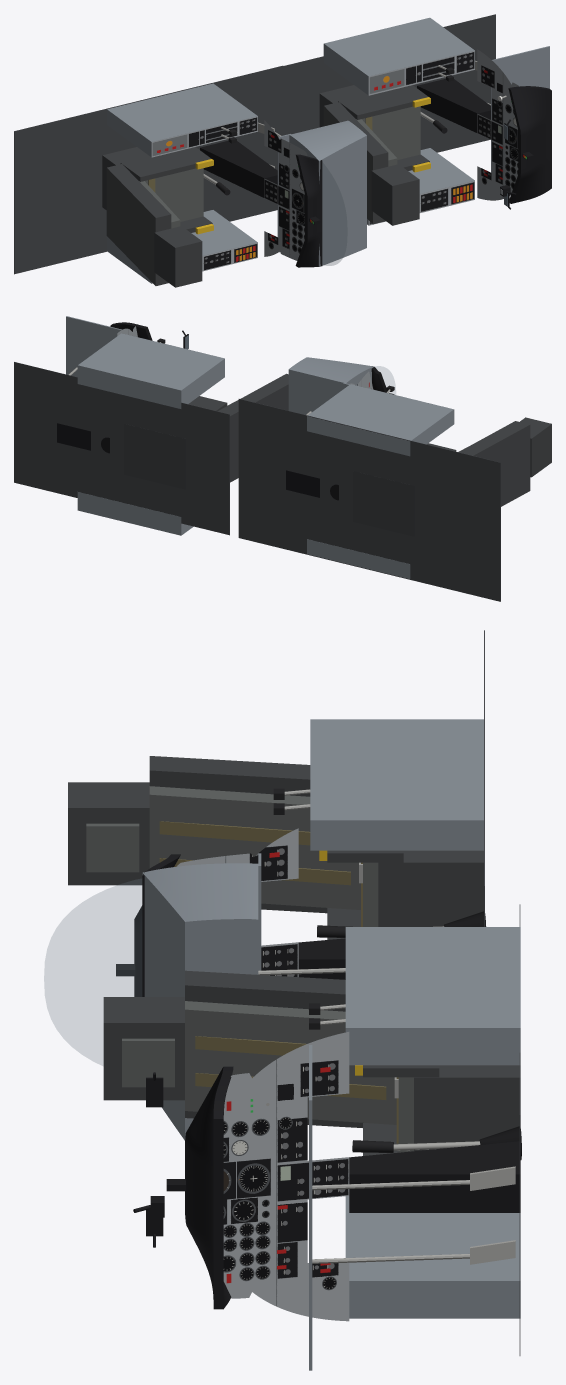
Rendered from t38a-cockpit.glb.
3 views of the same model, one above another, from view 1: azimuth 30°, elevation 25°; view 2: azimuth 150°, elevation 25°; view 3: azimuth 270°, elevation 25° (orthographic). The views are drawn at different scales.
Parts seen in each view (by area): view 1: cockpitRearFloor, cockpitRearSeatFrame, cockpitFrontFloor, cockpitRearShroud, cockpitFrontSeatFrame, cockpitFrontConsoleLeft, cockpitRearConsoleLeft, cockpitFrontGlareShield, cockpitFrontPanel, cockpitRearPanel, cockpitRearPedestal, cockpitFrontSeatCushions (+11 smaller); view 2: cockpitRearFloor, cockpitFrontFloor, cockpitRearSeatFrame, cockpitFrontConsoleLeft, cockpitRearConsoleLeft, cockpitFrontSeatFrame, cockpitRearShroud, cockpitFrontConsoleRight, cockpitFrontFootwellCeiling, cockpitRearConsoleRight, cockpitRearPedestal, cockpitFrontPedestal; view 3: cockpitFrontPanel, cockpitFrontConsoleLeft, cockpitRearConsoleLeft, cockpitFrontSeatFrame, cockpitRearSeatFrame, cockpitFrontConsoleRight, cockpitRearShroud, cockpitRearSeatCushions, cockpitInterWindscreen, cockpitFrontSeatCushions, cockpitFrontPedestal, cockpitFrontGlareShield (+10 smaller).
Boxes of the visible parts, x1,y1,x2,y2 form: cockpitRearFloor: (14,65,283,274); cockpitRearSeatFrame: (102,147,212,287); cockpitFrontFloor: (283,14,495,152); cockpitRearShroud: (289,120,366,266); cockpitFrontSeatFrame: (319,85,429,225); cockpitFrontConsoleLeft: (323,17,474,95); cockpitRearConsoleLeft: (107,83,257,157); cockpitFrontGlareShield: (508,86,551,203); cockpitFrontPanel: (477,49,518,200); cockpitRearPanel: (264,120,307,260); cockpitRearPedestal: (200,140,277,197); cockpitFrontSeatCushions: (356,106,420,166); cockpitRearFloor: (238,399,500,601); cockpitFrontFloor: (14,362,229,535); cockpitRearSeatFrame: (353,417,551,536); cockpitFrontConsoleLeft: (77,333,224,408); cockpitRearConsoleLeft: (307,384,453,456); cockpitFrontSeatFrame: (124,373,288,489); cockpitRearShroud: (288,357,374,414); cockpitFrontConsoleRight: (77,492,193,535); cockpitFrontFootwellCeiling: (66,316,121,376); cockpitRearConsoleRight: (307,539,410,579); cockpitRearPedestal: (286,470,319,497); cockpitFrontPedestal: (57,423,90,450); cockpitFrontPanel: (223,1032,349,1321); cockpitFrontConsoleLeft: (345,927,520,1065); cockpitRearConsoleLeft: (310,719,483,850); cockpitFrontSeatFrame: (103,970,520,1155); cockpitRearSeatFrame: (68,756,483,939); cockpitFrontConsoleRight: (345,1196,520,1318); cockpitRearShroud: (142,863,258,1140); cockpitRearSeatCushions: (149,786,378,926); cockpitInterWindscreen: (44,879,141,1065); cockpitFrontSeatCushions: (185,1001,413,1152); cockpitFrontPedestal: (349,1141,520,1212); cockpitFrontGlareShield: (185,1066,233,1309).
Size of the model in its own units: 10.85 by 3.15 by 4.7.
23 materials, 6 textured.
